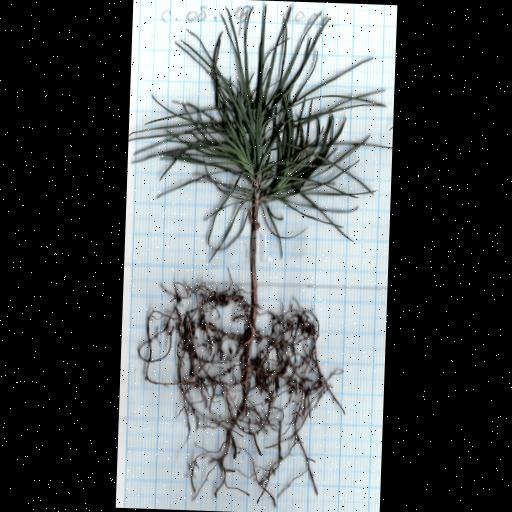flowerCedr: (129, 6, 382, 257)
rootCedr: (138, 284, 344, 503)
stemCedr: (249, 203, 260, 311)
